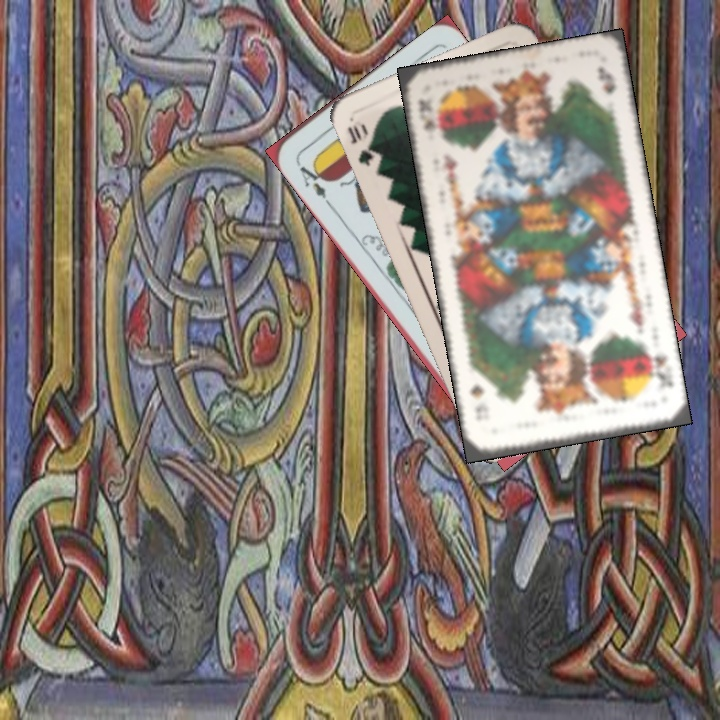EA: (292, 156, 333, 208)
G10: (343, 120, 379, 169)
SK: (642, 344, 677, 391), (414, 94, 436, 133)
